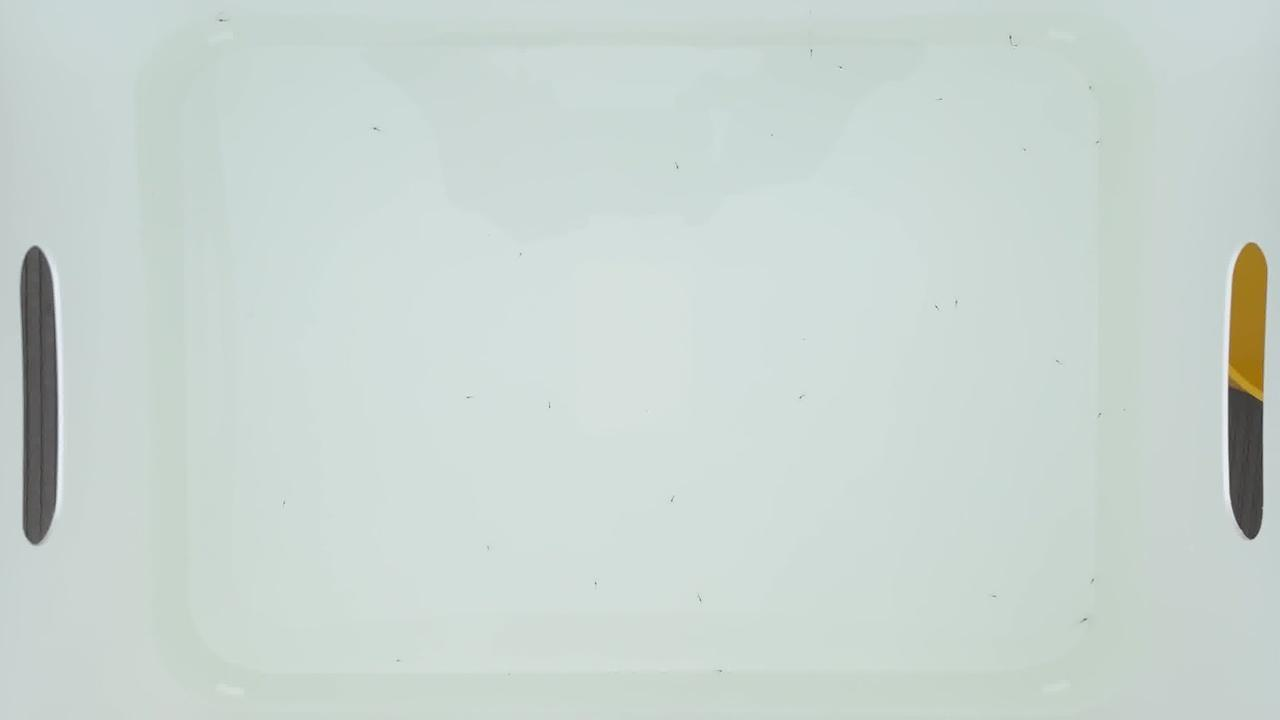shrimp: (216, 17, 228, 25), (372, 125, 384, 133), (673, 161, 685, 169), (808, 47, 820, 55), (837, 64, 849, 72), (766, 131, 778, 139), (515, 253, 527, 261), (543, 405, 555, 413), (464, 394, 476, 402), (279, 499, 291, 507), (484, 543, 496, 551), (392, 659, 404, 667), (593, 580, 605, 588), (696, 594, 708, 602), (716, 669, 728, 677), (668, 495, 680, 503), (796, 390, 808, 398), (1080, 616, 1092, 624), (1088, 577, 1100, 585), (990, 593, 1002, 601), (1094, 413, 1106, 421), (1054, 358, 1066, 366), (952, 297, 964, 305), (931, 305, 943, 313), (1008, 33, 1020, 41), (935, 96, 947, 104), (1018, 146, 1030, 154), (1092, 139, 1104, 147), (1084, 87, 1096, 95)
